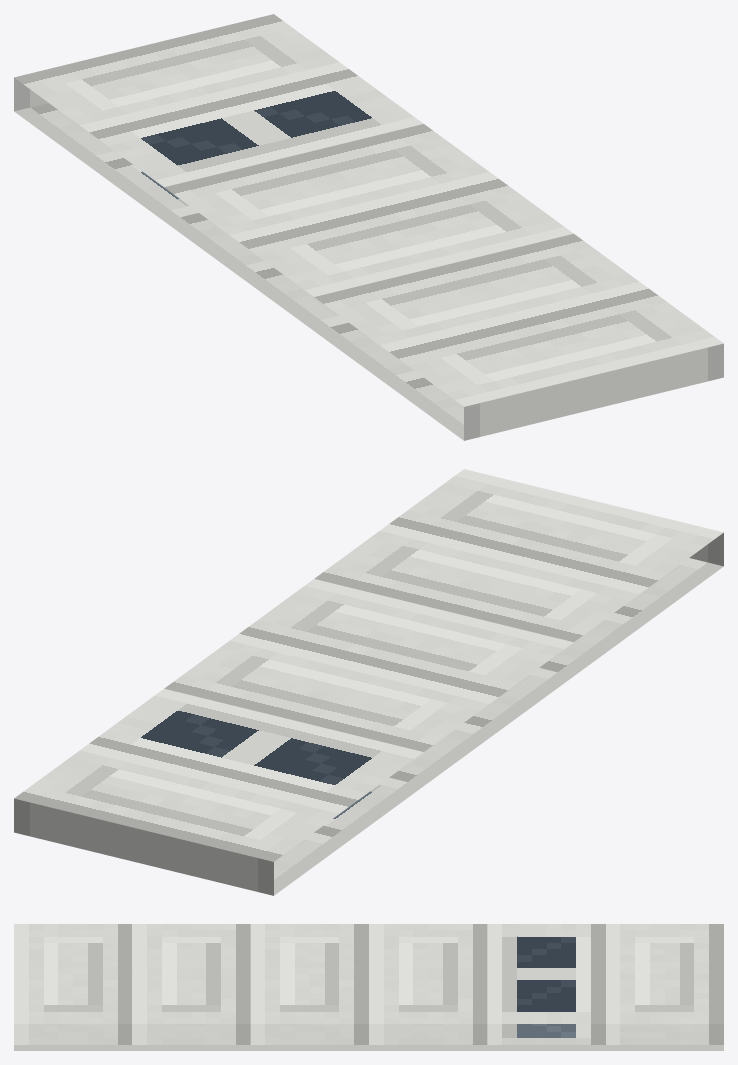
File: windowed_run_3.obj
3 renders of one model, top to bottom at view 1: azimuth 30°, elevation 25°; view 2: azimuth 150°, elevation 25°; view 3: azimuth 270°, elevation 25°, orthographic. The views are drawn at different scales.
Parts seen in each view (by area): view 1: run; view 2: run; view 3: run.
Part boxes in pixels (bbox=[...]): run: bbox=[14, 14, 723, 440]; run: bbox=[14, 469, 723, 895]; run: bbox=[14, 924, 723, 1050].
Bounding box in the file's own units: 1 × 0.125 × 3.
